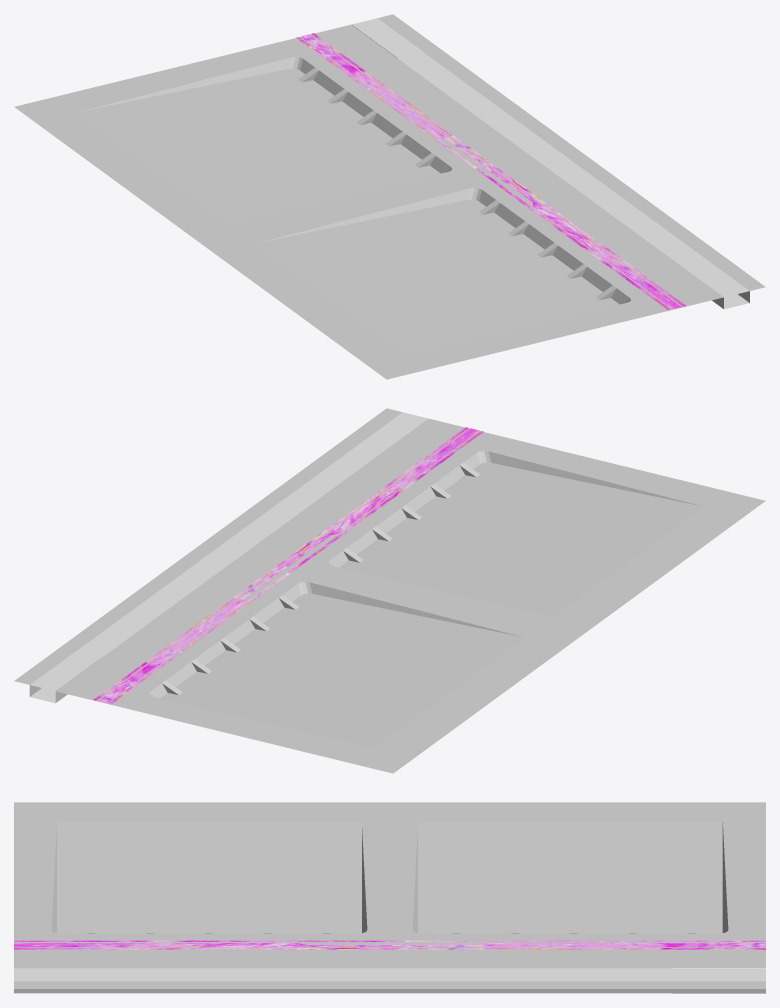
File: floor_02.fbx
3 renders of one model, top to bottom at view 1: azimuth 30°, elevation 25°; view 2: azimuth 150°, elevation 25°; view 3: azimuth 270°, elevation 25°, orthographic.
Parts seen in each view (by area): view 1: Plane.169, Plane.186, Plane.176, Plane.177; view 2: Plane.169, Plane.186, Plane.176, Plane.177; view 3: Plane.186, Plane.169, Plane.176, Plane.177.
Boxes of the visible parts, box(x1,y1,x2,y2) form: Plane.169: box(14, 14, 765, 379); Plane.186: box(76, 68, 619, 353); Plane.176: box(351, 18, 749, 309); Plane.177: box(296, 33, 686, 310); Plane.169: box(14, 408, 765, 773); Plane.186: box(160, 462, 703, 747); Plane.176: box(29, 412, 428, 703); Plane.177: box(93, 427, 483, 704); Plane.186: box(57, 822, 722, 933); Plane.169: box(14, 802, 765, 988); Plane.176: box(14, 968, 765, 993); Plane.177: box(14, 940, 765, 949).
Bounding box in the file's own units: 2.35 × 0.0745 × 4.
